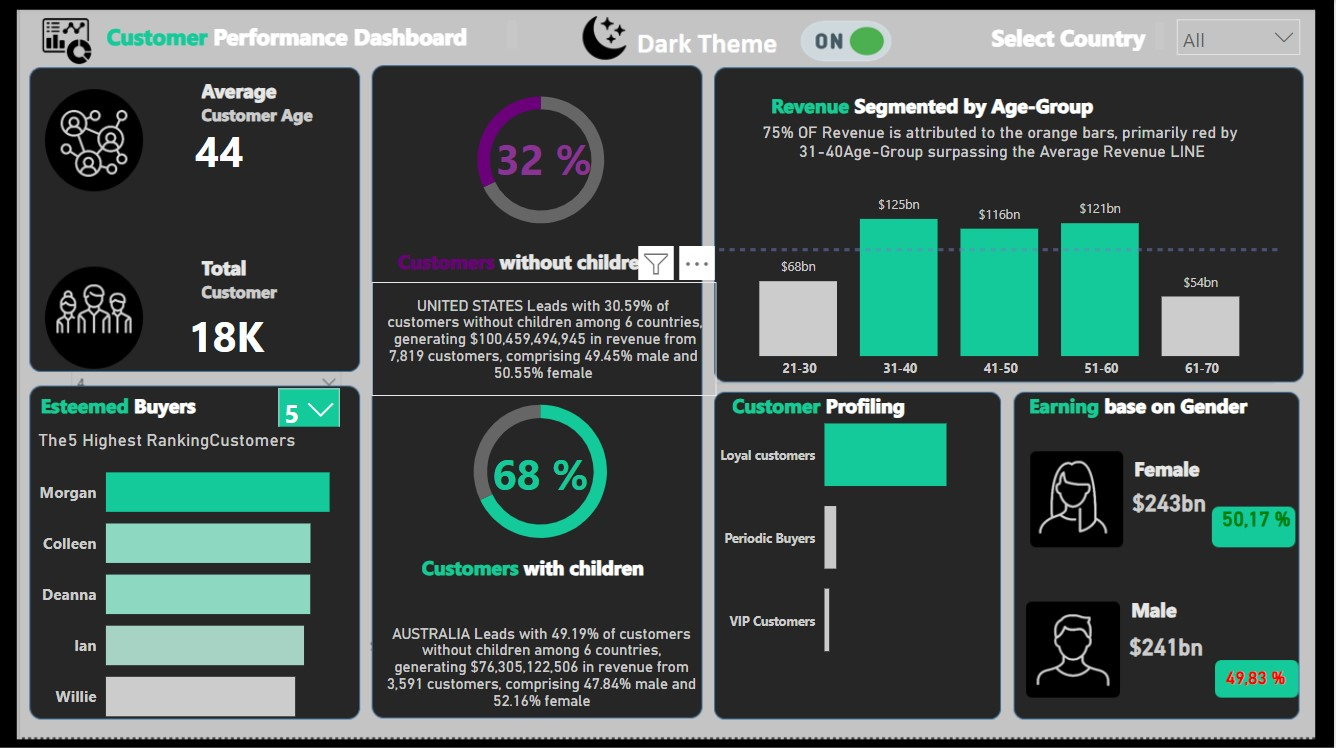

This screenshot's page, from the dashboard's own definition file:
{"tool":"powerbi","page":{"name":"Dark","canvas":[1280,720],"ordinal":1},"visuals":[{"type":"clusteredColumnChart","fields":{"Category":["DimCustomer.Age Categorie"],"Y":["All Measures.Total Revenue","All Measures.Total Revenue"]},"box":[685.9,172.6,549.7,198.4],"z":0},{"type":"card","fields":{"Values":["Customer Measures.avg Caption"]},"box":[676.8,83.3,569.3,106],"z":1000},{"type":"donutChart","fields":{"Y":["Customer Measures.% CWC","Customer Measures.% C without children"]},"box":[417.9,71.2,202.9,162],"z":2000},{"type":"donutChart","fields":{"Y":["Customer Measures.% CWC","Customer Measures.% C without children"]},"box":[410.3,366.4,216.5,169.6],"z":3000},{"type":"card","fields":{"Values":["Customer Measures.% C without children"]},"box":[446.9,90.5,150.9,122.2],"z":4000},{"type":"card","fields":{"Values":["Customer Measures.% CWC"]},"box":[466.4,419.4,104.5,66.6],"z":5000},{"type":"textbox","box":[378.6,233.2,271,36.3],"z":6000},{"type":"textbox","box":[401.3,525.4,234.7,36.3],"z":7000},{"type":"card","fields":{"Values":["Customer Measures.Caption Customers Without Children"]},"box":[357.4,269.5,331.6,110.5],"z":8000},{"type":"card","fields":{"Values":["Customer Measures.Caption Customers With Children"]},"box":[357.4,566.3,328.6,146.9],"z":9000},{"type":"clusteredBarChart","fields":{"Category":["DimCustomer.FirstName"],"Y":["Customer Measures.Dynamic customers"]},"box":[33.3,419.4,343.7,292.2],"z":10000},{"type":"clusteredBarChart","fields":{"Category":["DimCustomer.Customer Type"],"Y":["All Measures.Total Revenue"]},"box":[685.9,360.4,275.6,302.8],"z":11000},{"type":"slicer","fields":{"Values":["Dynamic Customers.Dynamic Customers"]},"box":[258.9,361.9,78.7,46.9],"z":12000},{"type":"card","fields":{"Values":["Customer Measures.%Male"]},"box":[1158.4,620.8,92.4,57.5],"z":13000},{"type":"card","fields":{"Values":["Customer Measures.%Female"]},"box":[1164.4,481.5,81.8,30.3],"z":14000},{"type":"card","fields":{"Values":["Customer Measures.Average Customers Age"]},"box":[163.5,104.5,95.4,77.2],"z":15000},{"type":"card","fields":{"Values":["Customer Measures.#Customers"]},"box":[168.1,281.6,99.9,78.7],"z":16000},{"type":"textbox","box":[189.3,69.7,134.8,66.6],"z":17000},{"type":"textbox","box":[189.3,239.2,124.2,66.6],"z":18000},{"type":"textbox","box":[1084.2,431.5,134.8,37.9],"z":19000},{"type":"textbox","box":[1081.1,566.3,134.8,37.9],"z":20000},{"type":"textbox","box":[735.9,83.3,340.7,37.9],"z":21000},{"type":"textbox","box":[36.3,371,168.1,37.9],"z":22000},{"type":"card","fields":{"Values":["Customer Measures.Title Top Customers"]},"box":[28.8,398.2,269.5,66.6],"z":23000},{"type":"textbox","box":[982.7,371,236.2,37.9],"z":24000},{"type":"card","fields":{"Values":["Customer Measures.Female Revenue"]},"box":[1079.6,449.7,84.8,62.1],"z":25000},{"type":"card","fields":{"Values":["Customer Measures.Male Revenue"]},"box":[1076.6,587.5,84.8,62.1],"z":26000},{"type":"textbox","box":[99.1,14.6,402.4,37.9],"z":27000},{"type":"slicer","fields":{"Values":["DimGeography.Country"]},"box":[1119,9.1,137.8,60.6],"z":28000},{"type":"textbox","box":[941.8,15.1,180.2,37.9],"z":29000},{"type":"textbox","box":[698,371,209,37.9],"z":30000},{"type":"actionButton","box":[769.7,19,86,39.4],"z":30001}]}

Visuals, with their boxes in screenshot pixels (x1, y1, x2, y2), scaled from the page's 1280x720 canvas onto the 1336x748 screenshot:
clusteredColumnChart - DimCustomer.Age Categorie x All Measures.Total Revenue: Rect(716, 179, 1290, 385)
card - Customer Measures.avg Caption: Rect(706, 87, 1301, 197)
donutChart - Customer Measures.% CWC x Customer Measures.% C without children: Rect(436, 74, 648, 242)
donutChart - Customer Measures.% CWC x Customer Measures.% C without children: Rect(428, 381, 654, 557)
card - Customer Measures.% C without children: Rect(466, 94, 624, 221)
card - Customer Measures.% CWC: Rect(487, 436, 596, 505)
textbox: Rect(395, 242, 678, 280)
textbox: Rect(419, 546, 664, 584)
card - Customer Measures.Caption Customers Without Children: Rect(373, 280, 719, 395)
card - Customer Measures.Caption Customers With Children: Rect(373, 588, 716, 741)
clusteredBarChart - DimCustomer.FirstName x Customer Measures.Dynamic customers: Rect(35, 436, 393, 739)
clusteredBarChart - DimCustomer.Customer Type x All Measures.Total Revenue: Rect(716, 374, 1004, 689)
slicer - Dynamic Customers.Dynamic Customers: Rect(270, 376, 352, 425)
card - Customer Measures.%Male: Rect(1209, 645, 1306, 705)
card - Customer Measures.%Female: Rect(1215, 500, 1301, 532)
card - Customer Measures.Average Customers Age: Rect(171, 109, 270, 189)
card - Customer Measures.#Customers: Rect(175, 293, 280, 374)
textbox: Rect(198, 72, 338, 142)
textbox: Rect(198, 249, 327, 318)
textbox: Rect(1132, 448, 1272, 488)
textbox: Rect(1128, 588, 1269, 628)
textbox: Rect(768, 87, 1124, 126)
textbox: Rect(38, 385, 213, 425)
card - Customer Measures.Title Top Customers: Rect(30, 414, 311, 483)
textbox: Rect(1026, 385, 1272, 425)
card - Customer Measures.Female Revenue: Rect(1127, 467, 1215, 532)
card - Customer Measures.Male Revenue: Rect(1124, 610, 1212, 675)
textbox: Rect(103, 15, 523, 55)
slicer - DimGeography.Country: Rect(1168, 9, 1312, 72)
textbox: Rect(983, 16, 1171, 55)
textbox: Rect(729, 385, 947, 425)
actionButton: Rect(803, 20, 893, 61)
